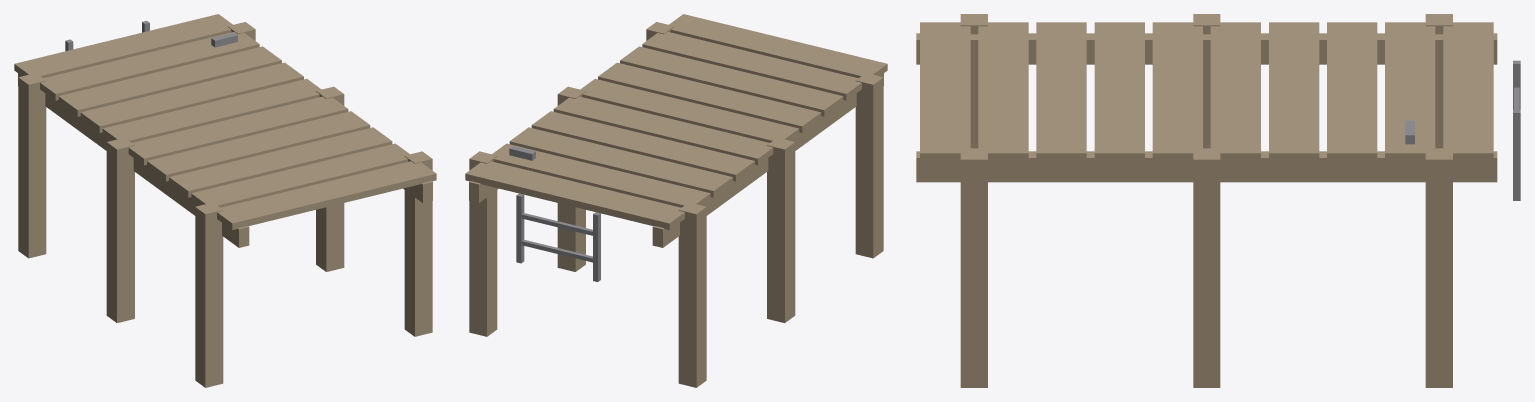
The model's file is dock.glb.
3 renders of one model, left to right at view 1: azimuth 30°, elevation 25°; view 2: azimuth 150°, elevation 25°; view 3: azimuth 270°, elevation 25°, orthographic. The views are drawn at different scales.
Visible parts, largest first — view 1: Dock_plank, Dock_post.001, Dock_post.002, Dock_post, Dock_plank.006, Dock_plank.007, Dock_plank.002, Dock_plank.003, Dock_plank.004, Dock_plank.001, Dock_plank.005, Dock_plank.009 (+5 smaller); view 2: Dock_plank.009, Dock_post.001, Dock_post, Dock_post.002, Dock_plank.002, Dock_plank.003, Dock_plank.007, Dock_plank.006, Dock_plank.005, Dock_plank.001, Dock_plank.004, Dock_plank (+9 smaller); view 3: Dock_stringer.001, Dock_plank.002, Dock_plank.003, Dock_plank.006, Dock_plank.007, Dock_plank.004, Dock_plank, Dock_plank.001, Dock_plank.009, Dock_plank.005, Dock_plank.008, Dock_post.003 (+7 smaller).
Boxes of the visible parts, x1=… form: Dock_plank: x1=217, y1=161, x2=436, y2=229; Dock_post.001: x1=106, y1=137, x2=134, y2=322; Dock_post.002: x1=18, y1=73, x2=46, y2=258; Dock_post: x1=195, y1=202, x2=223, y2=387; Dock_plank.006: x1=80, y1=62, x2=303, y2=132; Dock_plank.007: x1=58, y1=46, x2=281, y2=116; Dock_plank.002: x1=169, y1=127, x2=392, y2=197; Dock_plank.003: x1=147, y1=111, x2=370, y2=181; Dock_plank.004: x1=128, y1=96, x2=348, y2=165; Dock_plank.001: x1=191, y1=143, x2=409, y2=207; Dock_plank.005: x1=102, y1=79, x2=321, y2=142; Dock_plank.009: x1=14, y1=14, x2=232, y2=78; Dock_plank.009: x1=465, y1=161, x2=684, y2=229; Dock_post.001: x1=767, y1=137, x2=795, y2=322; Dock_post: x1=855, y1=73, x2=883, y2=258; Dock_post.002: x1=678, y1=202, x2=706, y2=387; Dock_plank.002: x1=620, y1=46, x2=843, y2=116; Dock_plank.003: x1=598, y1=62, x2=821, y2=132; Dock_plank.007: x1=509, y1=127, x2=732, y2=197; Dock_plank.006: x1=531, y1=111, x2=754, y2=181; Dock_plank.005: x1=553, y1=96, x2=773, y2=165; Dock_plank.001: x1=642, y1=32, x2=861, y2=100; Dock_plank.004: x1=580, y1=79, x2=799, y2=142; Dock_plank: x1=669, y1=14, x2=887, y2=78; Dock_stringer.001: x1=916, y1=151, x2=1497, y2=182; Dock_plank.002: x1=1036, y1=22, x2=1086, y2=161; Dock_plank.003: x1=1094, y1=22, x2=1144, y2=161; Dock_plank.006: x1=1269, y1=22, x2=1319, y2=161; Dock_plank.007: x1=1327, y1=22, x2=1377, y2=161; Dock_plank.004: x1=1152, y1=22, x2=1202, y2=161; Dock_plank: x1=920, y1=22, x2=970, y2=161; Dock_plank.001: x1=978, y1=22, x2=1028, y2=161; Dock_plank.009: x1=1443, y1=22, x2=1493, y2=161; Dock_plank.005: x1=1210, y1=22, x2=1260, y2=161; Dock_plank.008: x1=1385, y1=22, x2=1435, y2=161; Dock_post.003: x1=960, y1=148, x2=987, y2=387.
Bounding box in the file's own units: 1.78 × 1.34 × 3.12.
